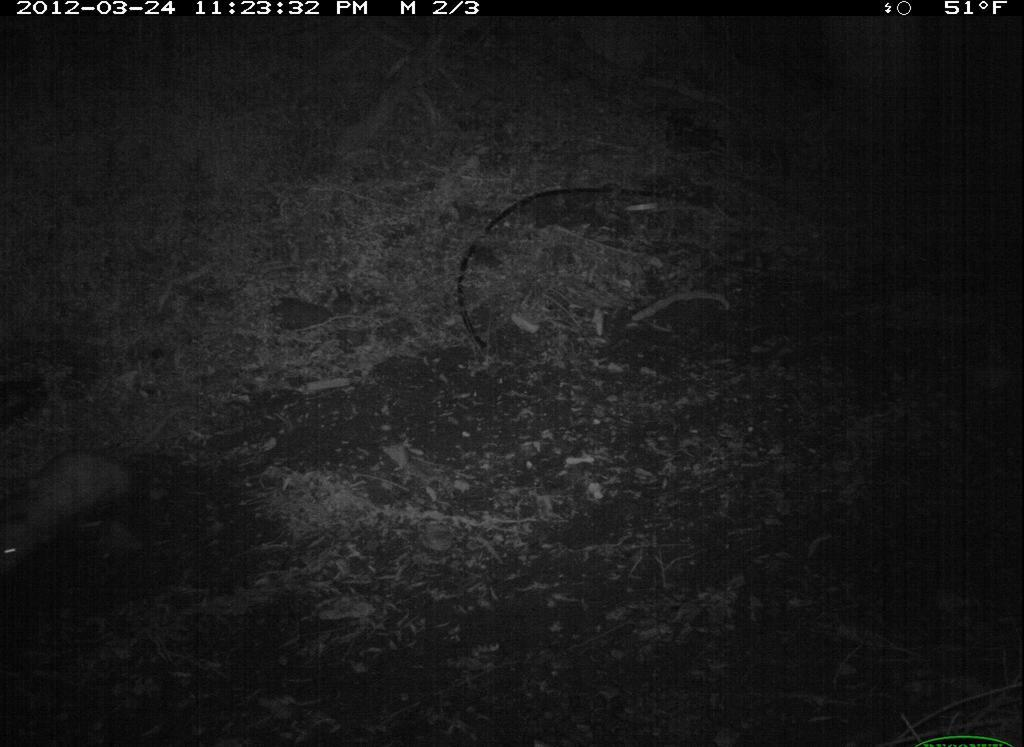opossum: (6, 417, 163, 573)
